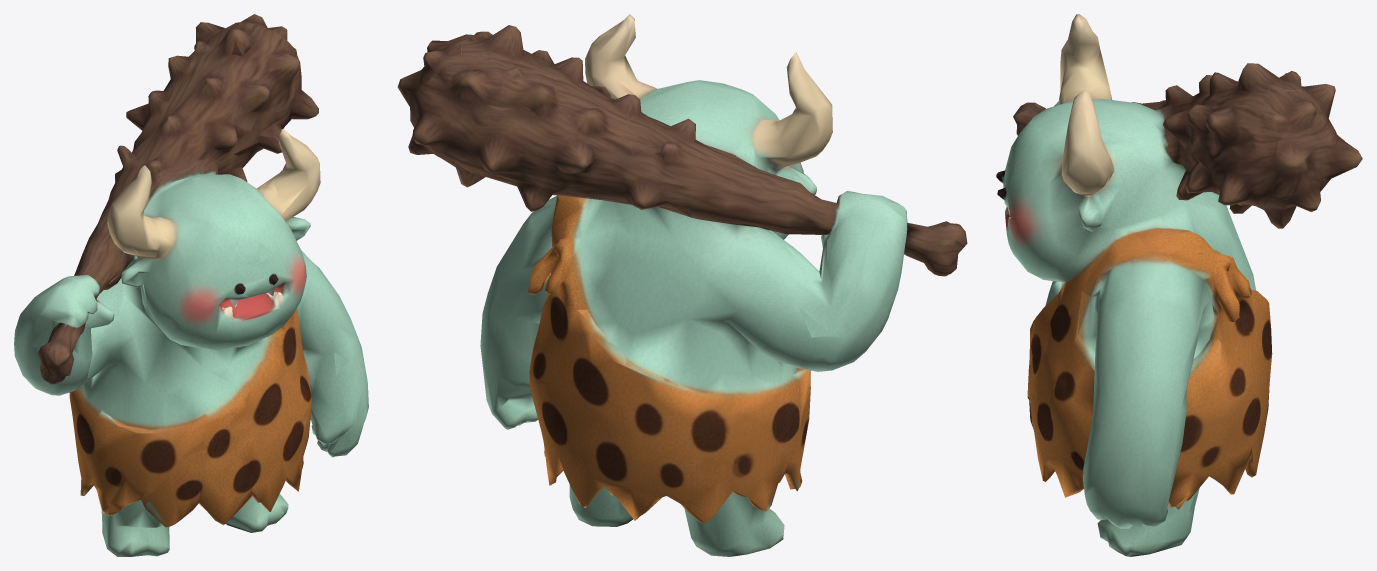
The model's file is kkebi-big-lowpoly.glb.
The picture shows the model from 3 angles, left to right: view 1: azimuth 30°, elevation 25°; view 2: azimuth 150°, elevation 25°; view 3: azimuth 270°, elevation 25°; orthographic projection. The views are drawn at different scales.
Parts seen in each view (by area): view 1: Mesh_0; view 2: Mesh_0; view 3: Mesh_0.
Boxes of the visible parts, box(x1,y1,x2,y2) form: Mesh_0: box(14, 14, 368, 556); Mesh_0: box(397, 14, 967, 556); Mesh_0: box(996, 14, 1362, 556).
Size of the model in its own units: 1.49 by 1.7 by 1.13.
Materials: 1 (1 with a texture image).
